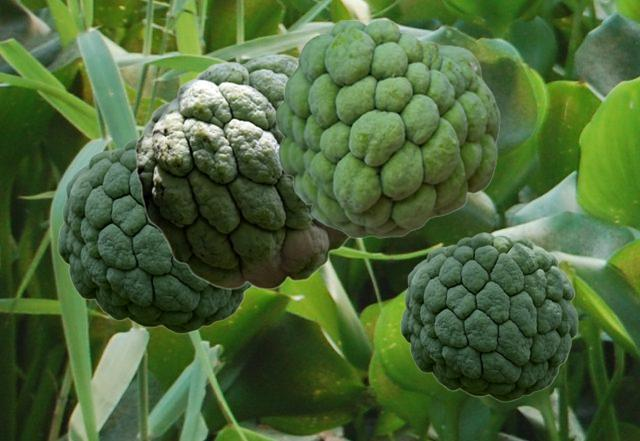atis: (134, 53, 350, 289), (274, 19, 499, 237), (57, 138, 251, 333), (400, 232, 577, 401)
